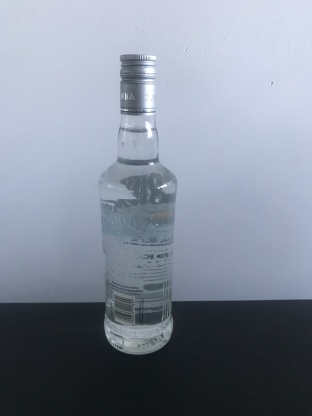nakretka: (118, 52, 158, 117)
